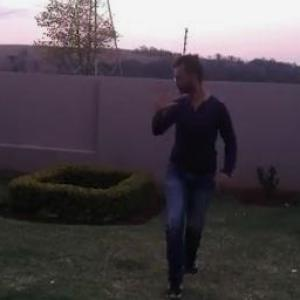follow_hand: (138, 75, 175, 113)
